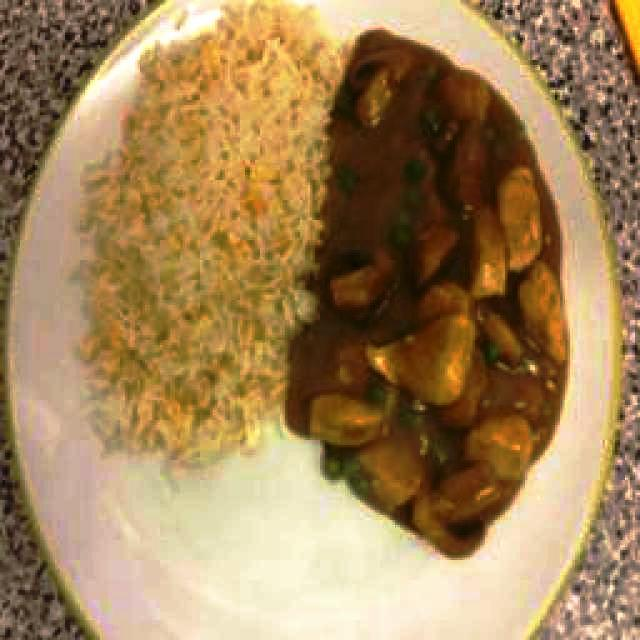curry: (286, 26, 565, 555)
rice: (92, 2, 293, 450), (293, 10, 336, 167), (293, 167, 320, 231)
